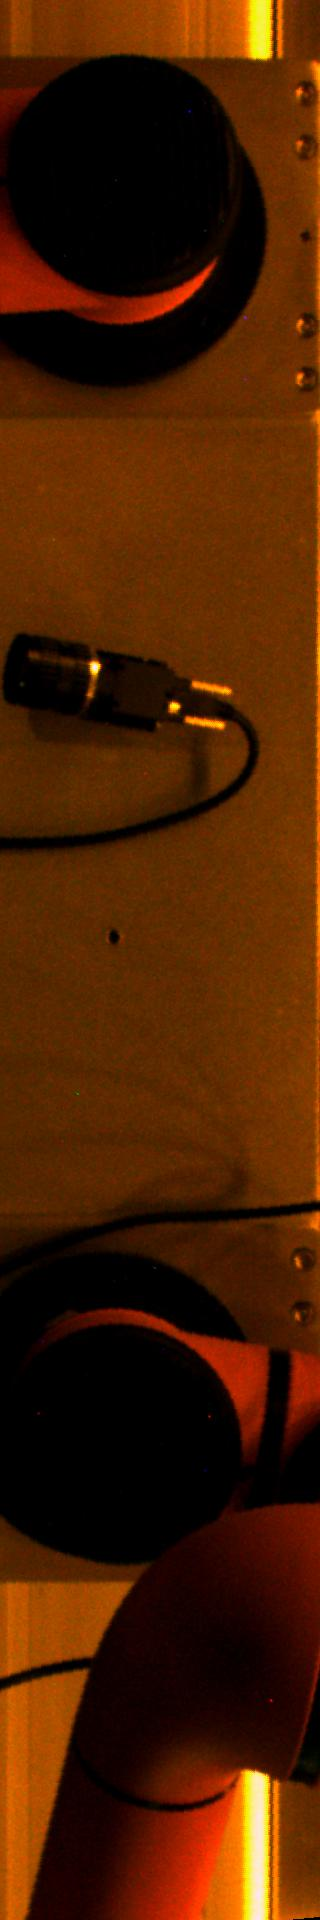keyPoint_2: (98, 922, 128, 951)
